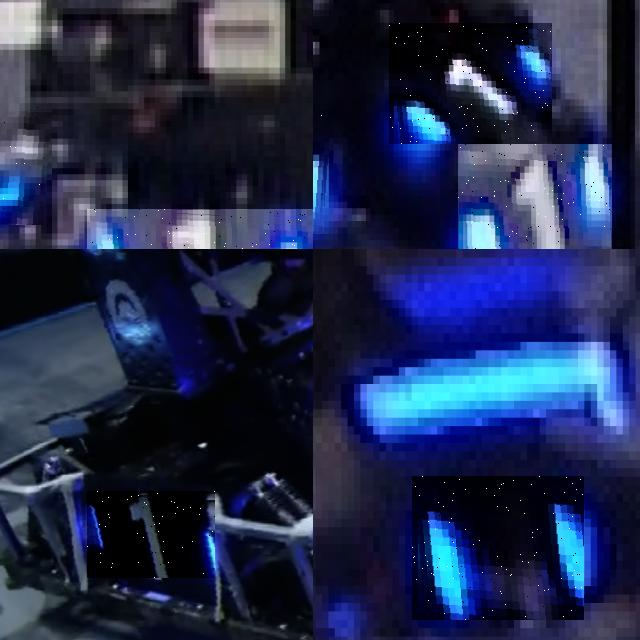B1: (389, 23, 552, 144), (458, 144, 611, 249), (87, 491, 215, 578), (87, 209, 313, 249), (0, 106, 51, 224)
B4: (412, 476, 584, 620)
